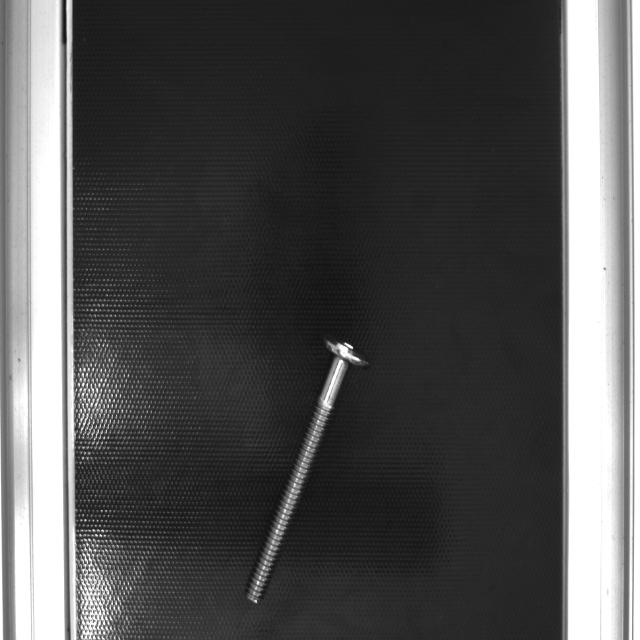bulon: (241, 356, 350, 607)
